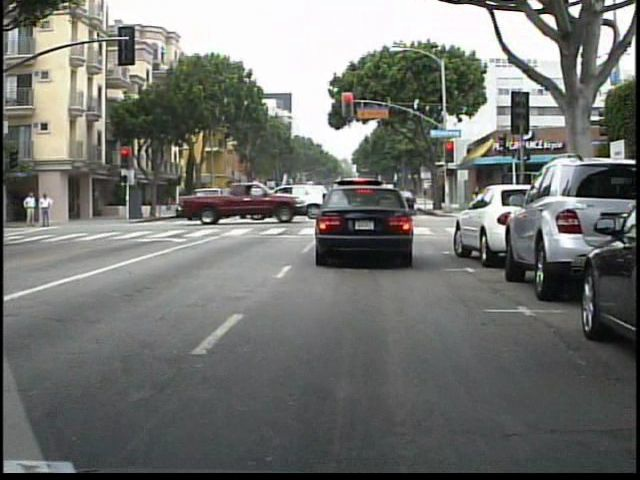person: (37, 191, 55, 230), (20, 189, 36, 230)
